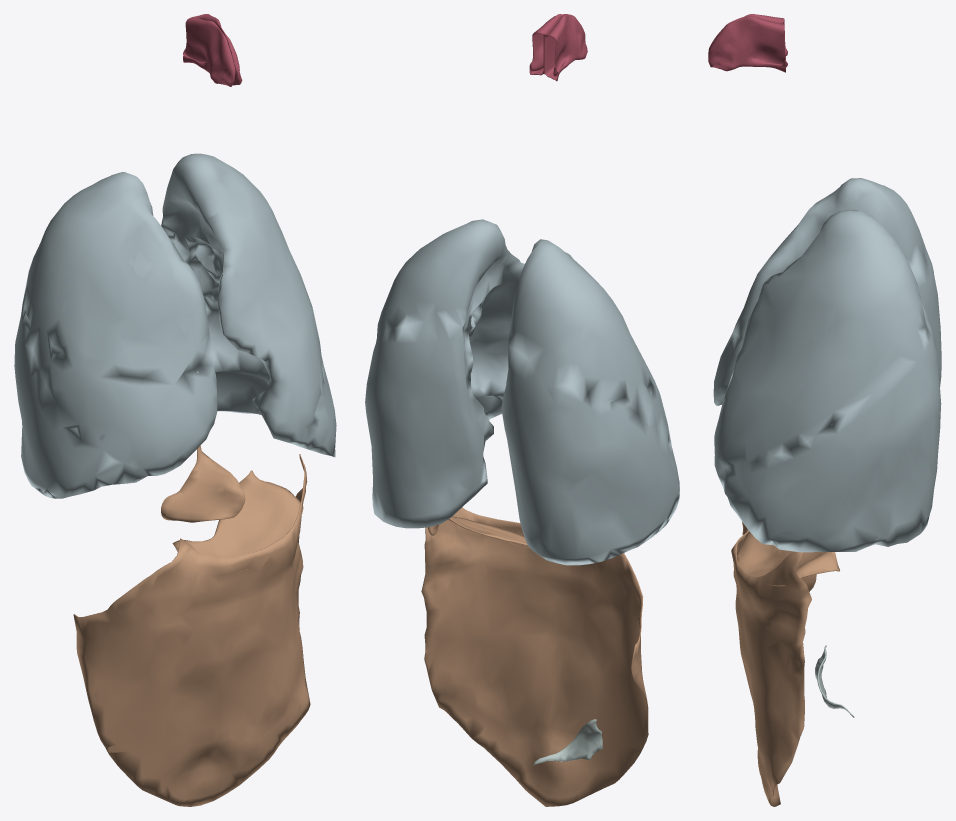
The model's file is organs-extra.glb.
The picture shows the model from 3 angles, left to right: view 1: azimuth 30°, elevation 25°; view 2: azimuth 150°, elevation 25°; view 3: azimuth 270°, elevation 25°; orthographic projection.
Visible parts, largest first — view 1: organ-pleura, organ-greater-omentum, organ-mesocolon, organ-lesser-omentum, organ-mucosa-of-nasal-cavity; view 2: organ-pleura, organ-greater-omentum, organ-mucosa-of-nasal-cavity, organ-meso-appendix, organ-mesocolon; view 3: organ-pleura, organ-greater-omentum, organ-mucosa-of-nasal-cavity, organ-mesocolon, organ-meso-appendix.
Boxes of the visible parts, bbox=[...] form: organ-pleura: bbox=[14, 153, 336, 498]; organ-greater-omentum: bbox=[73, 454, 310, 806]; organ-mesocolon: bbox=[172, 470, 303, 572]; organ-lesser-omentum: bbox=[161, 445, 245, 522]; organ-mucosa-of-nasal-cavity: bbox=[183, 14, 242, 86]; organ-pleura: bbox=[365, 219, 679, 565]; organ-greater-omentum: bbox=[421, 507, 648, 806]; organ-mucosa-of-nasal-cavity: bbox=[529, 14, 587, 81]; organ-meso-appendix: bbox=[533, 719, 602, 765]; organ-mesocolon: bbox=[428, 517, 529, 548]; organ-pleura: bbox=[713, 178, 941, 552]; organ-greater-omentum: bbox=[731, 521, 816, 806]; organ-mucosa-of-nasal-cavity: bbox=[708, 14, 787, 72]; organ-mesocolon: bbox=[737, 531, 839, 586]; organ-meso-appendix: bbox=[815, 645, 854, 717].
Size of the model in its own units: 0.2643 by 0.7189 by 0.1929.
